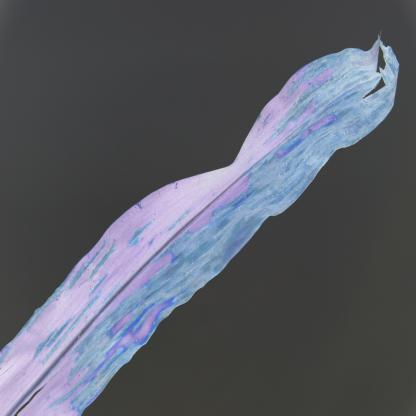Corn Gray leaf spot: (9, 33, 412, 413)
